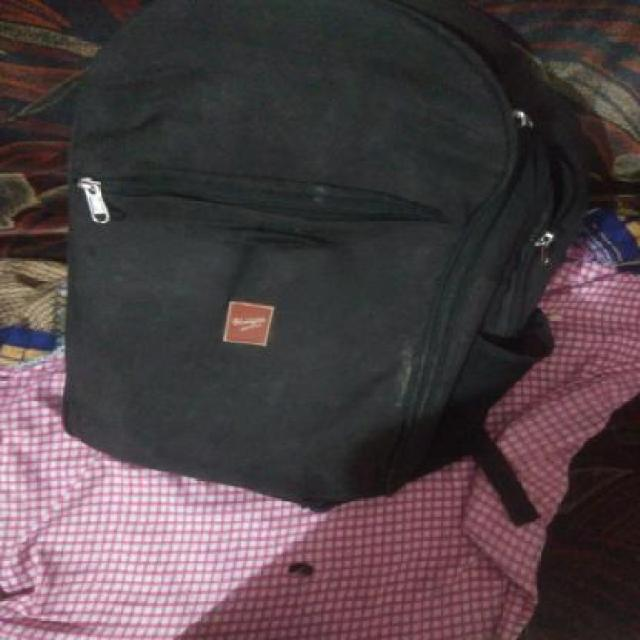backpack: (53, 0, 606, 518)
